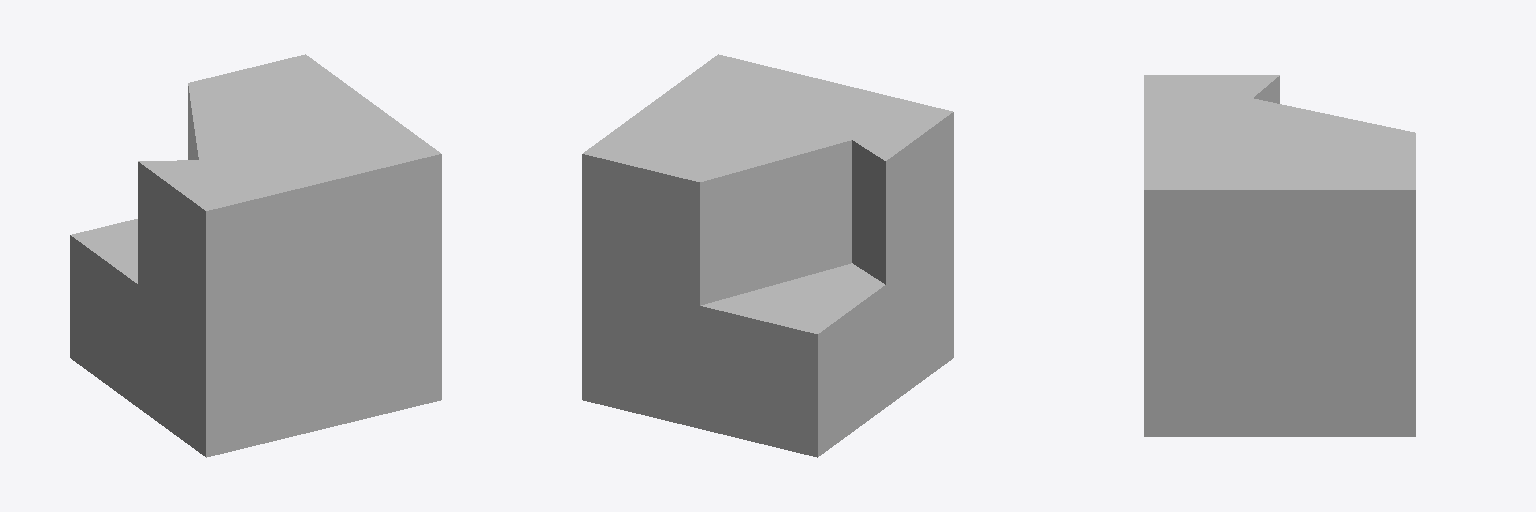
File: c8lfC.obj
3 renders of one model, left to right at view 1: azimuth 30°, elevation 25°; view 2: azimuth 150°, elevation 25°; view 3: azimuth 270°, elevation 25°, orthographic.
Size of the model in its own units: 1 by 1 by 1.